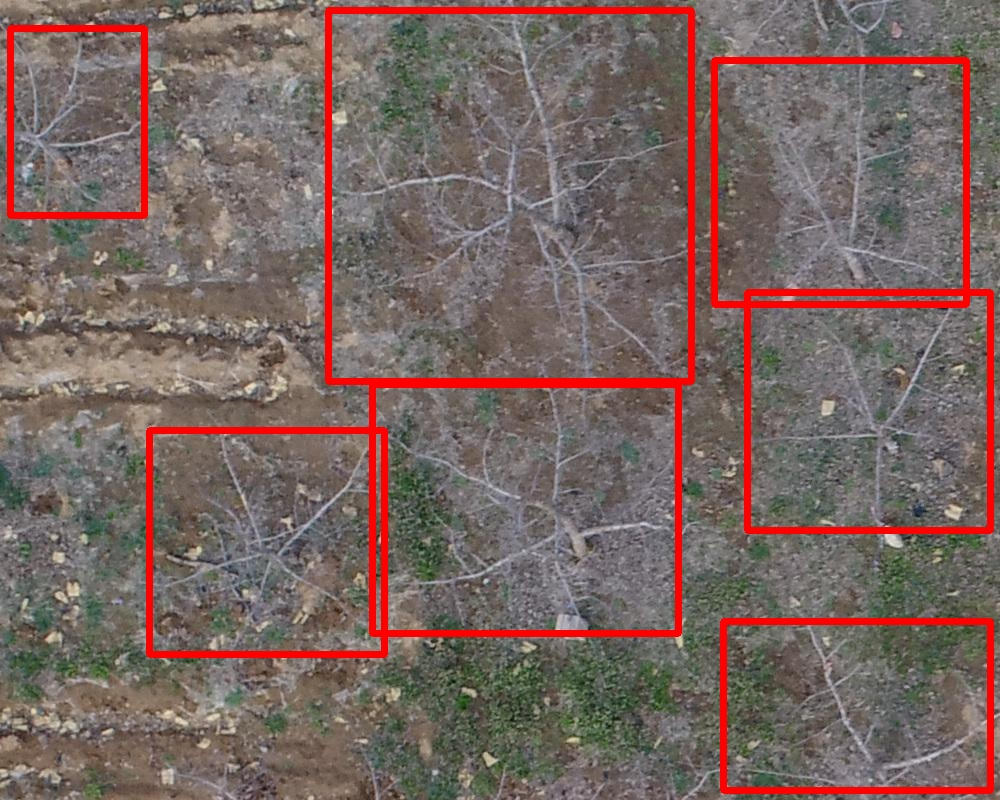apple: (328, 10, 691, 381), (372, 384, 678, 633), (714, 60, 966, 304), (747, 292, 990, 530), (149, 430, 384, 654), (723, 621, 990, 790), (10, 28, 144, 215)
